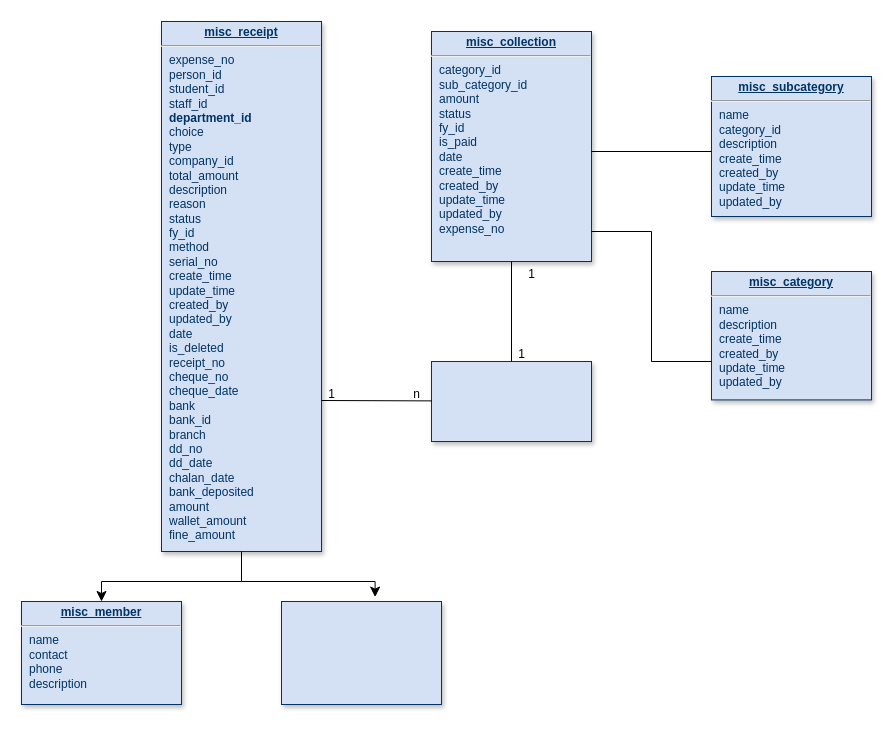
This 895x729 diagram has some shape labels left out. The centre of each missing label's shape, as x and y in pixels:
misc_company name contact phone description: (x=362, y=654)
misc_receipt_collection receipt_id collection_id: (x=512, y=402)
